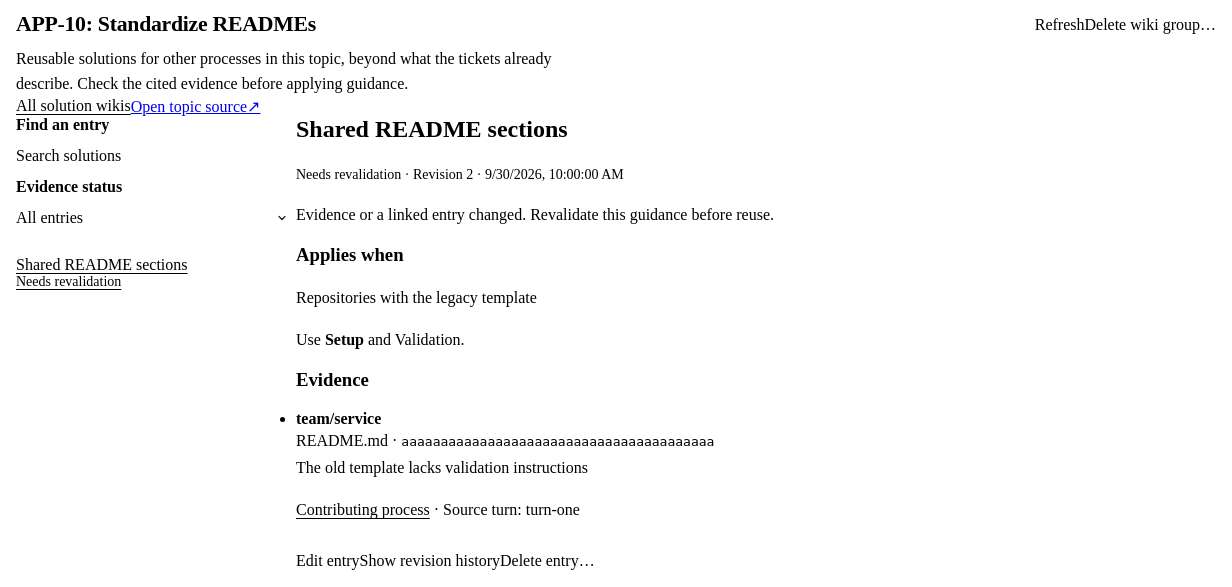
Test: renders scoped evidence, sanitized guidance, navigation, and filtering
Expected: the link to "/processes/process-one" is shown, [296,501,430,518]
Type "nothing matches" into the search field labelled "Find an entry". click: (156, 156)
box: [16,134,296,178]
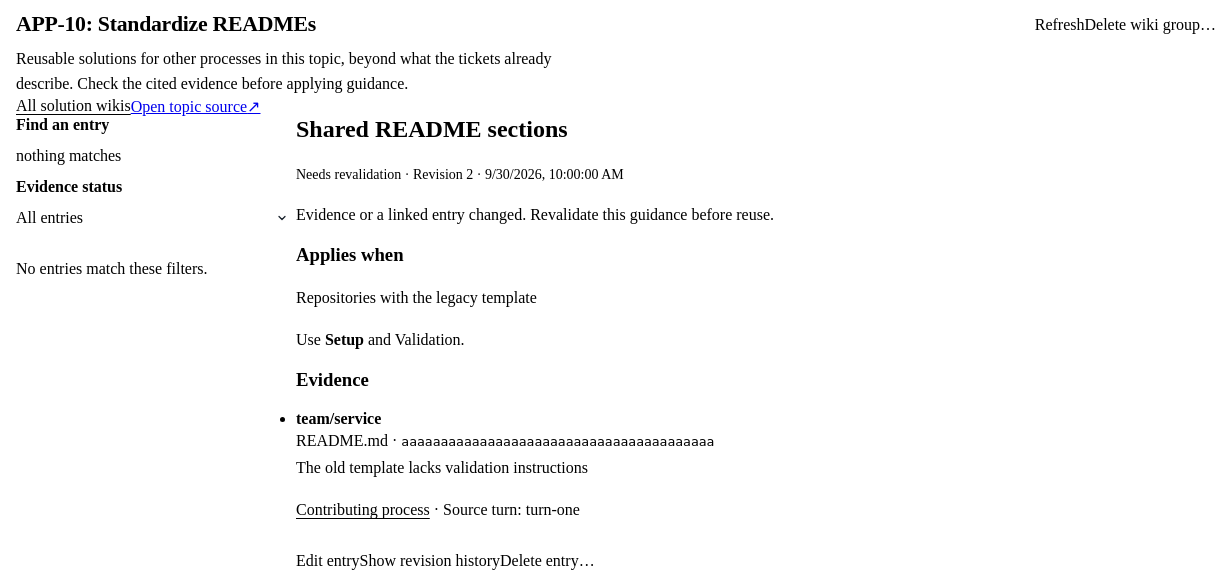
Expected: the text "No entries match these filters" is shown, [16,260,208,277]
